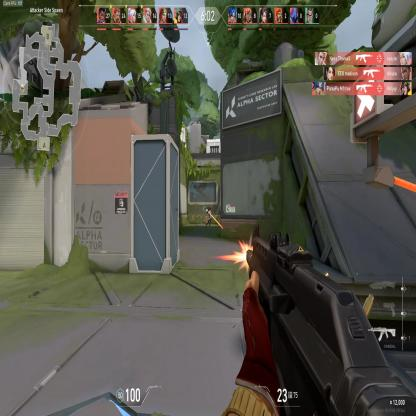enemy: (204, 205, 212, 229)
